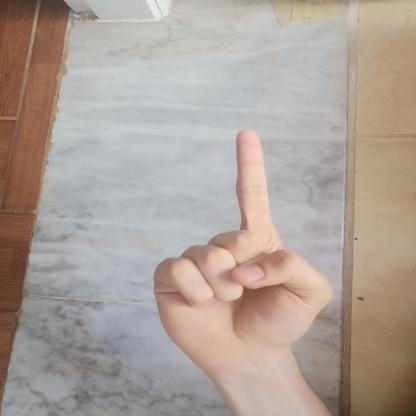BAA: (140, 119, 339, 370)
